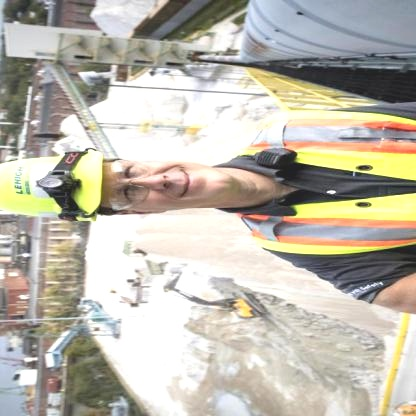vest: (221, 107, 415, 258)
yellow: (2, 138, 107, 226)
